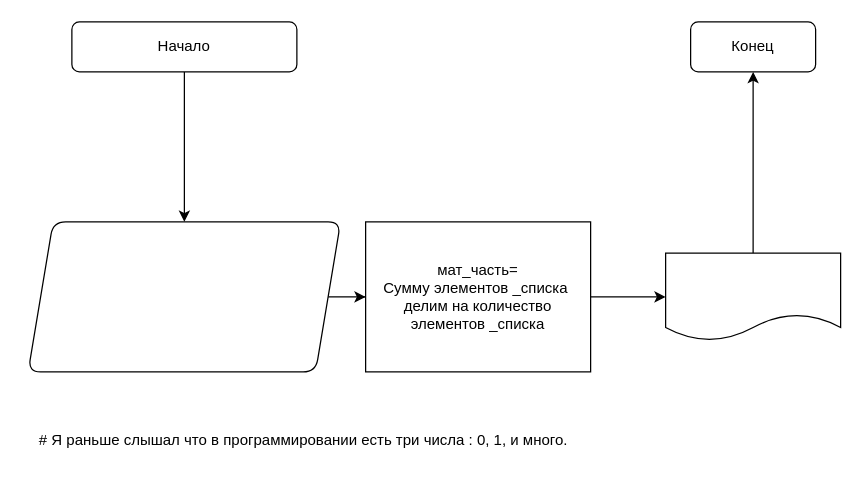
Some shapes in this 863 by 481 pixel diagram are drawn without their labels. Here are the shapes that lost their labels. From the top down, the box of each, then its label:
(27, 221, 341, 372): Сбор переменных в _список#
(664, 252, 841, 341): выводим мат_часть
